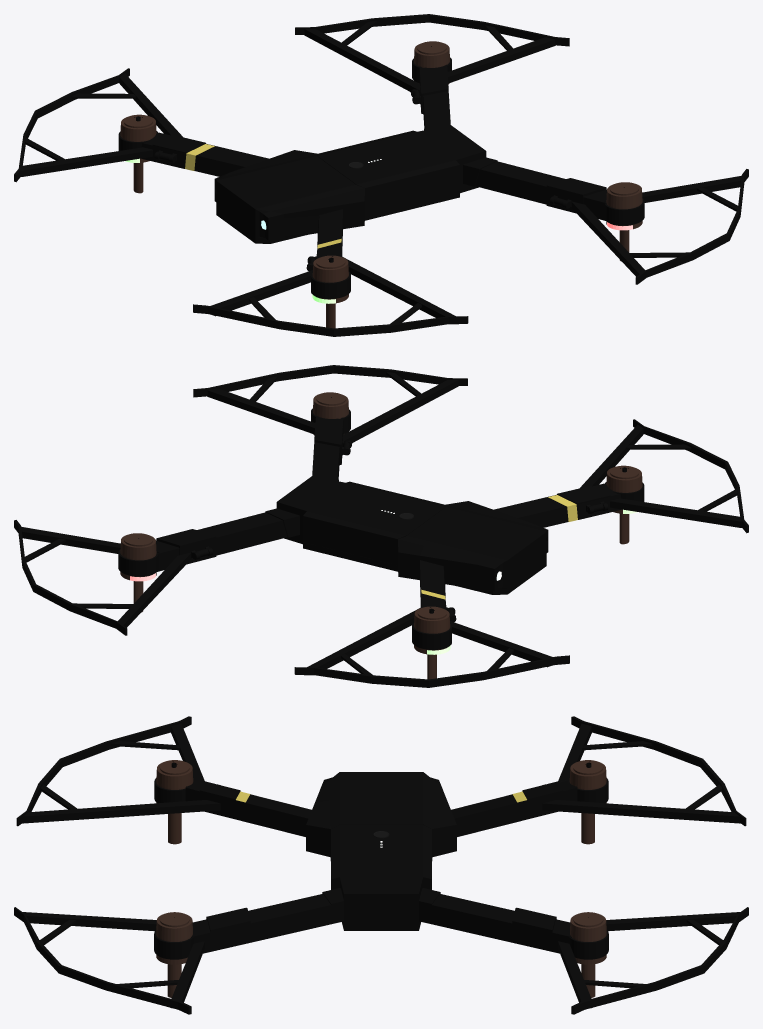
The model's file is Drone E58.fbx.
3 views of the same model, one above another, from view 1: azimuth 30°, elevation 25°; view 2: azimuth 150°, elevation 25°; view 3: azimuth 270°, elevation 25° (orthographic). The views are drawn at different scales.
Visible parts, largest first — view 1: Drone; view 2: Drone; view 3: Drone.
Part boxes in pixels (x1=…): Drone: x1=14, y1=14, x2=748, y2=336; Drone: x1=14, y1=365, x2=748, y2=687; Drone: x1=14, y1=716, x2=748, y2=1014.
Size of the model in its own units: 1093 by 138 by 1165.
